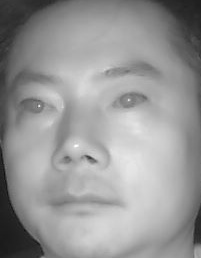eye: (16, 92, 55, 118), (111, 89, 149, 114)
mouth: (49, 181, 124, 223)
